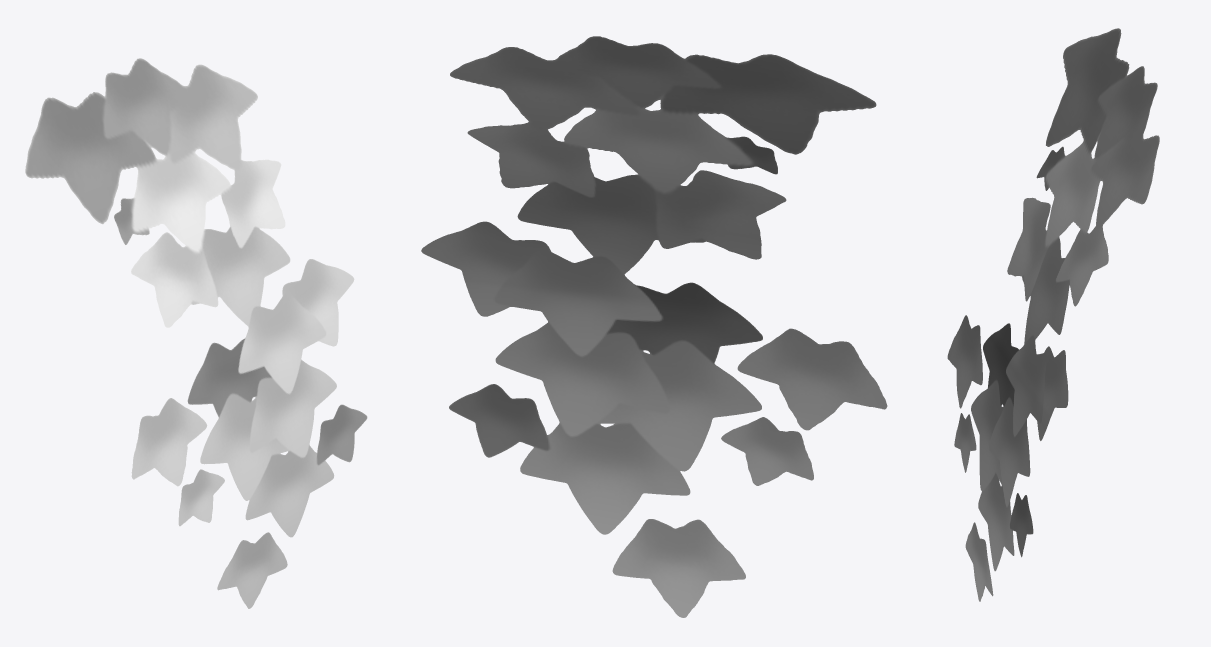
The model's file is IVY3.fbx.
3 views of the same model, side by side, from view 1: azimuth 30°, elevation 25°; view 2: azimuth 150°, elevation 25°; view 3: azimuth 270°, elevation 25° (orthographic). The views are drawn at different scales.
Visible parts, largest first — view 1: Object013; view 2: Object013; view 3: Object013.
Boxes of the visible parts, left/top/right/bottom form: Object013: left=25, top=58, right=367, bottom=608; Object013: left=421, top=36, right=887, bottom=617; Object013: left=947, top=28, right=1159, bottom=601.
Bounding box in the file's own units: 18.66 × 11.5 × 25.44.
